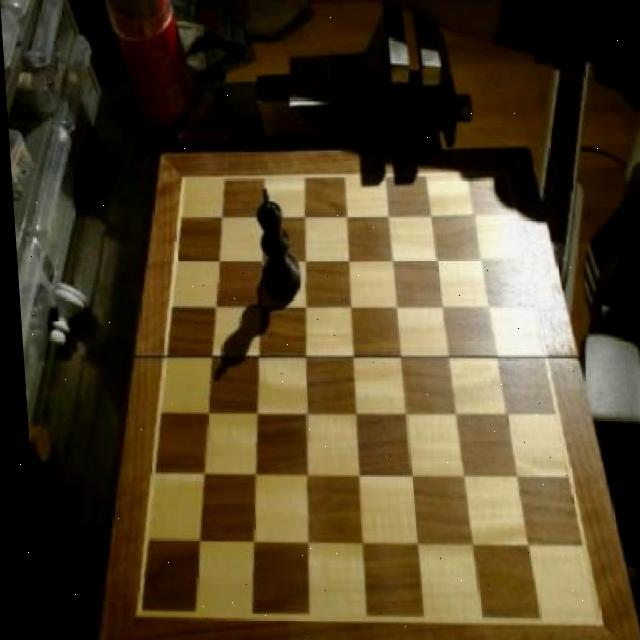black-bishop: (247, 197, 304, 311)
